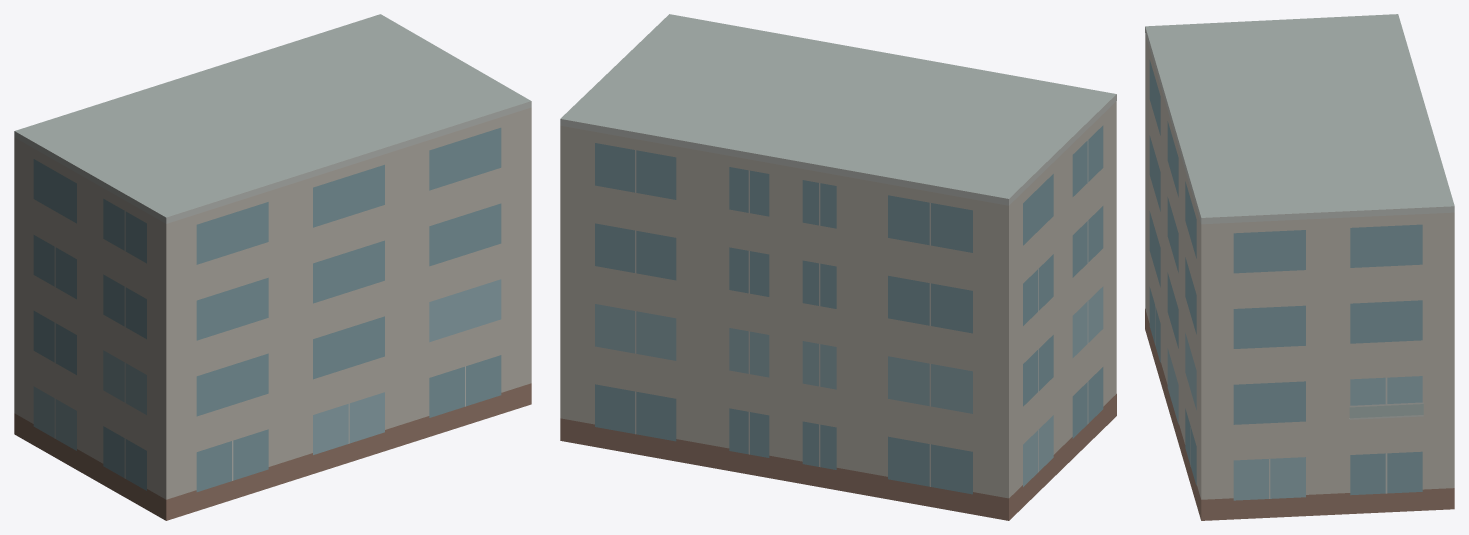
File: survey-upis-32746857.glb
The picture shows the model from 3 angles, left to right: view 1: azimuth 30°, elevation 25°; view 2: azimuth 150°, elevation 25°; view 3: azimuth 270°, elevation 25°; orthographic projection. The views are drawn at different scales.
Visible parts, largest first — view 1: survey-upis-32746857.tmp; view 2: survey-upis-32746857.tmp; view 3: survey-upis-32746857.tmp.
Boxes of the visible parts, x1,y1,x2,y2 form: survey-upis-32746857.tmp: [14, 14, 531, 520]; survey-upis-32746857.tmp: [560, 14, 1116, 520]; survey-upis-32746857.tmp: [1145, 14, 1454, 520].
Bounding box in the file's own units: 16.76 × 11.6 × 10.76.
